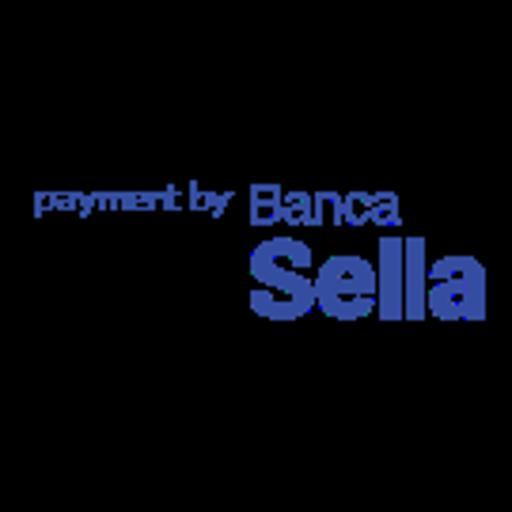Banca Sella: (0, 165, 512, 347)
